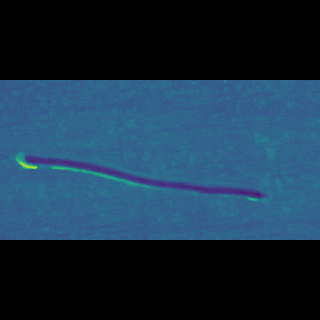Loch: (13, 154, 274, 181)
